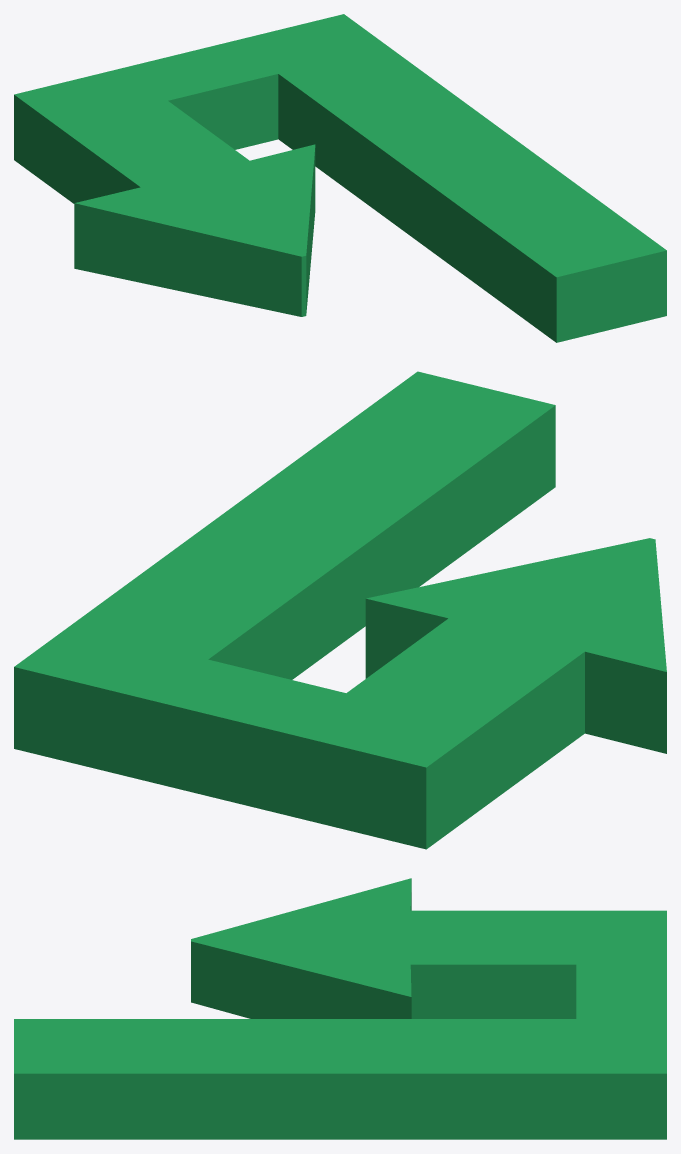
File: arrow-uturn.fbx
The picture shows the model from 3 angles, top to bottom: view 1: azimuth 30°, elevation 25°; view 2: azimuth 150°, elevation 25°; view 3: azimuth 270°, elevation 25°; orthographic projection. The views are drawn at different scales.
Visible parts, largest first — view 1: Cube.002; view 2: Cube.002; view 3: Cube.002.
Part boxes in pixels (<box>): Cube.002: <box>14,14,666,342</box>; Cube.002: <box>14,371,666,849</box>; Cube.002: <box>14,878,666,1139</box>.
Size of the model in its own units: 146 by 23.16 by 207.
